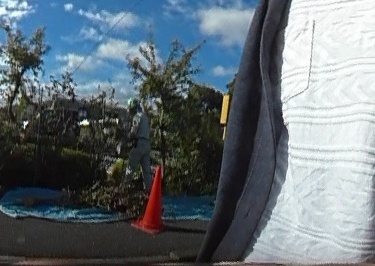person: (132, 104, 155, 184)
